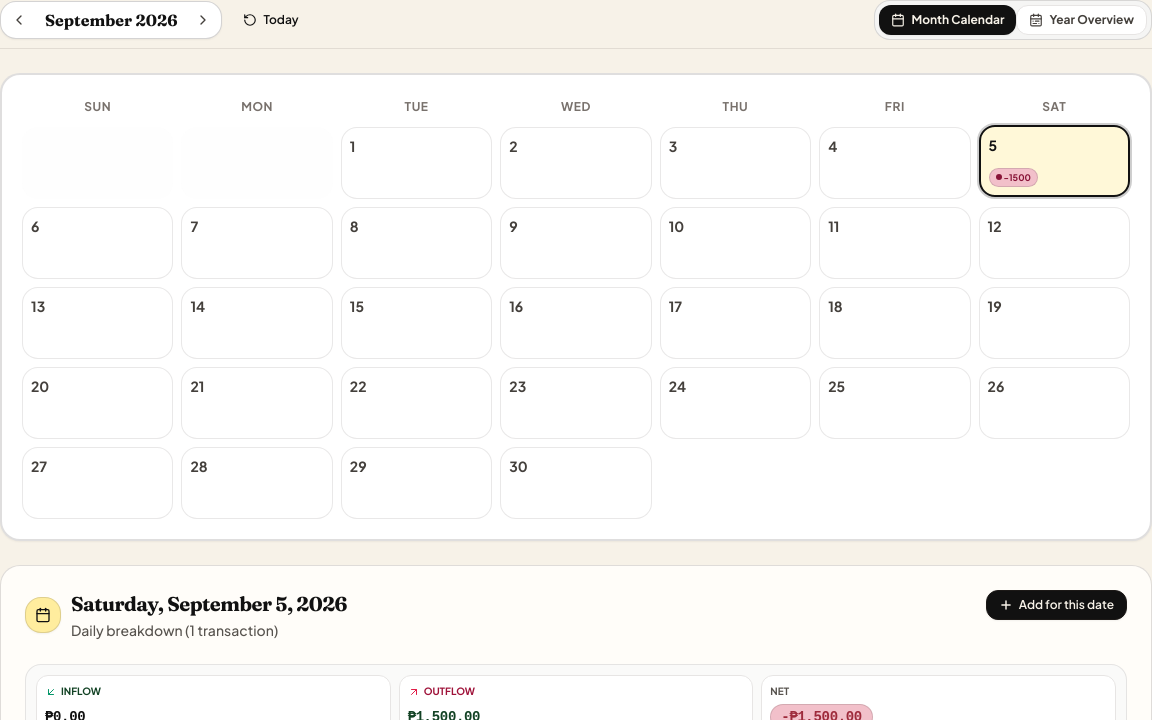
CashFlowView Component (TDD) › switches to Year Overview mode when clicking Year toggle
Click the tab "Year Overview". click: [1082, 20]
box: [1016,5,1147,35]
(page scrolled)
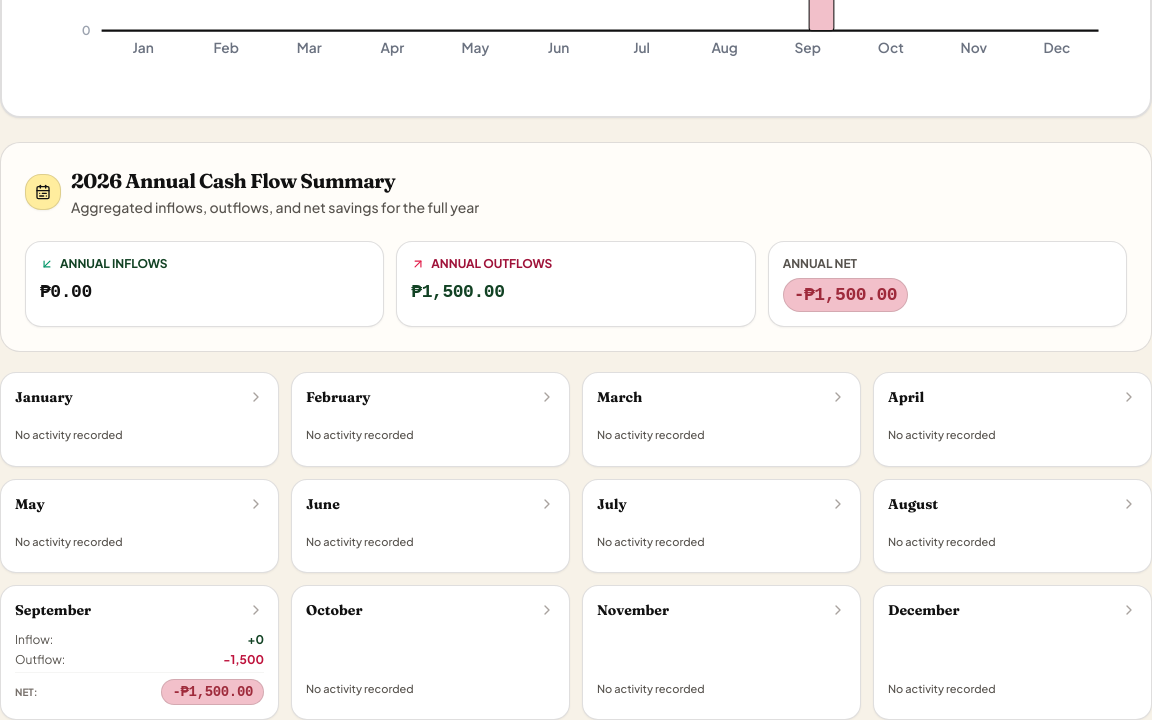
Check: the element with test id "yearly-cashflow-grid" is shown
Check: the element with test id "cash-flow-calendar" is gone
